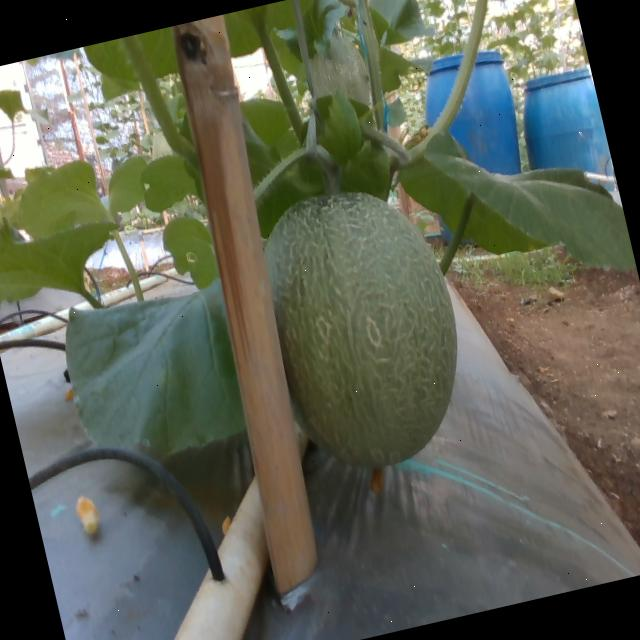melon: (266, 191, 457, 467)
